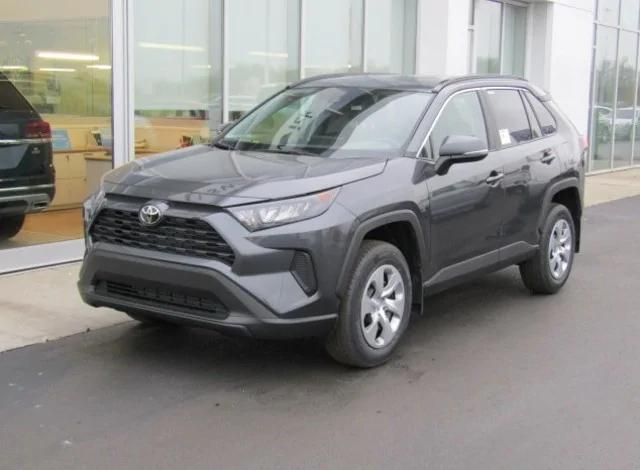Toyota RAV-4: (77, 72, 588, 368)
